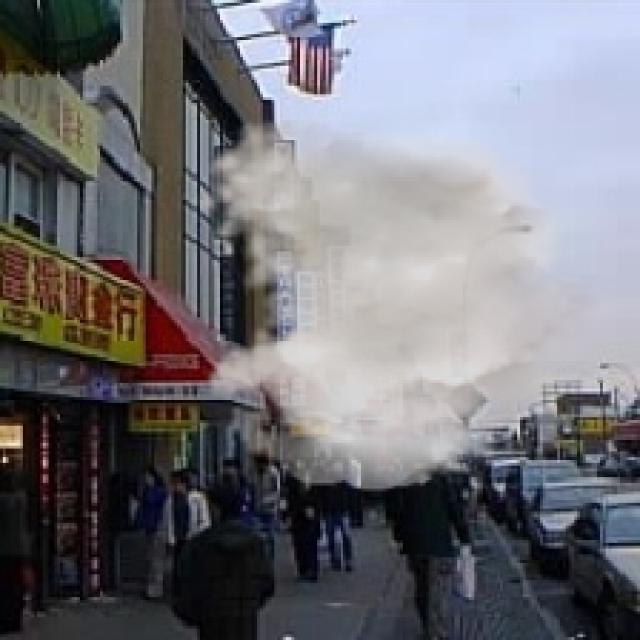smoke: (194, 117, 620, 492)
